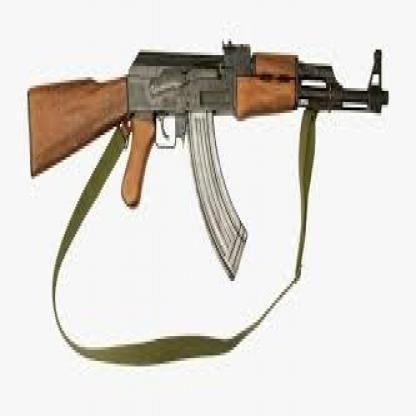Gun: (23, 20, 388, 287)
